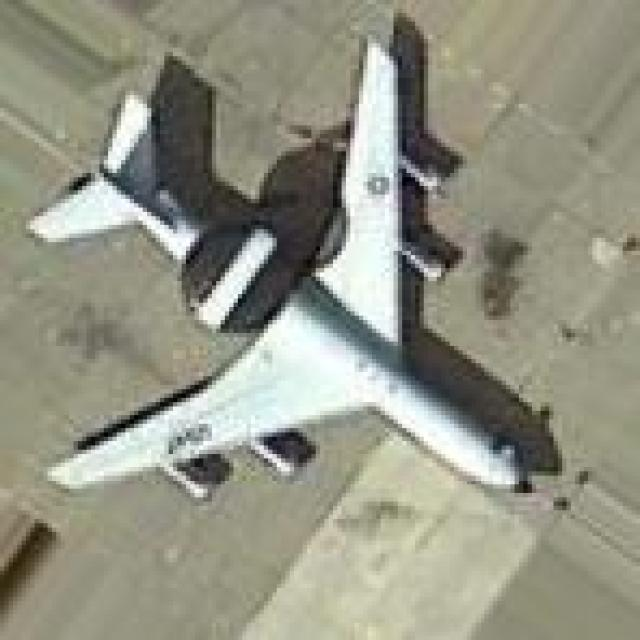E-3_TopDown: (21, 9, 566, 506)
